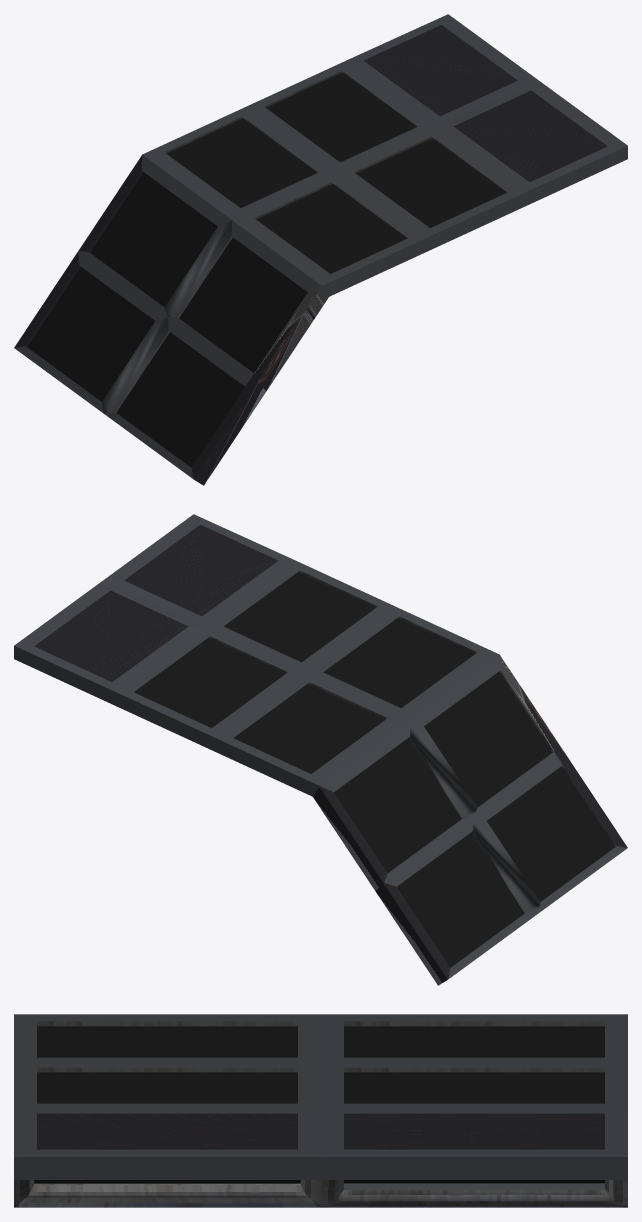
File: sm_roof_wall_01.glb
3 renders of one model, top to bottom at view 1: azimuth 30°, elevation 25°; view 2: azimuth 150°, elevation 25°; view 3: azimuth 270°, elevation 25°, orthographic. The views are drawn at different scales.
Visible parts, largest first — view 1: sm_roof_wall_01.004, sm_roof_wall_01.001; view 2: sm_roof_wall_01.004, sm_roof_wall_01.001; view 3: sm_roof_wall_01.001, sm_roof_wall_01.004.
Boxes of the visible parts, x1,y1,x2,y2 form: sm_roof_wall_01.004: (27, 72, 506, 467); sm_roof_wall_01.001: (14, 14, 627, 485); sm_roof_wall_01.004: (135, 572, 615, 967); sm_roof_wall_01.001: (14, 514, 627, 985); sm_roof_wall_01.001: (14, 1014, 627, 1207); sm_roof_wall_01.004: (34, 1026, 604, 1183).
Bounding box in the file's own units: 9.77 × 5.08 × 7.
Materials: 3 (2 with a texture image).
